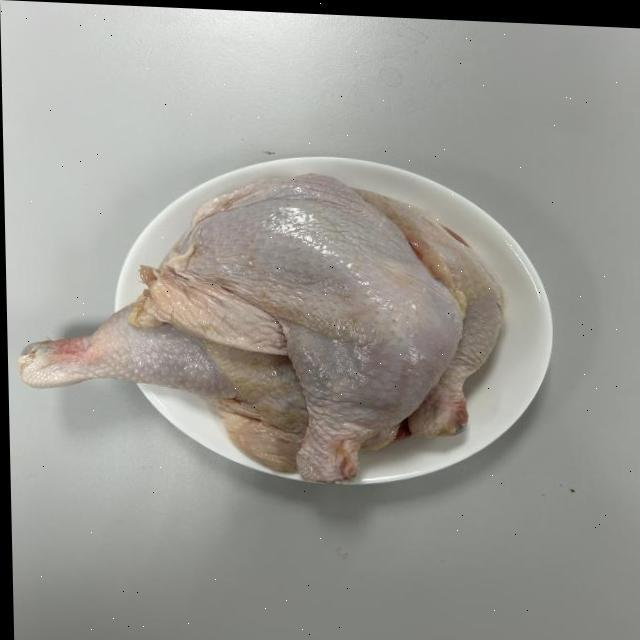quater: (218, 188, 460, 497), (7, 302, 293, 472), (387, 184, 511, 447)
